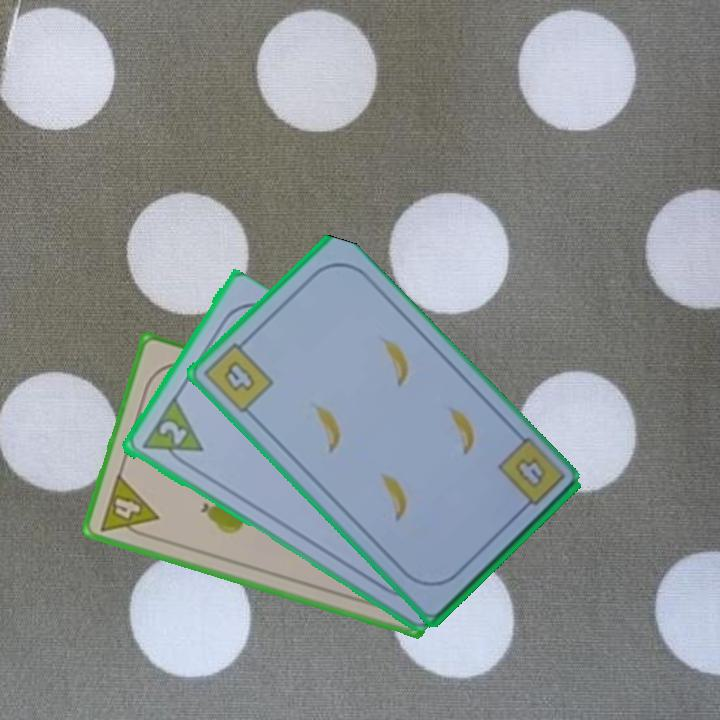2p: (154, 417, 190, 448)
4b: (199, 334, 276, 417), (511, 454, 549, 492)
4p: (96, 470, 162, 543)
